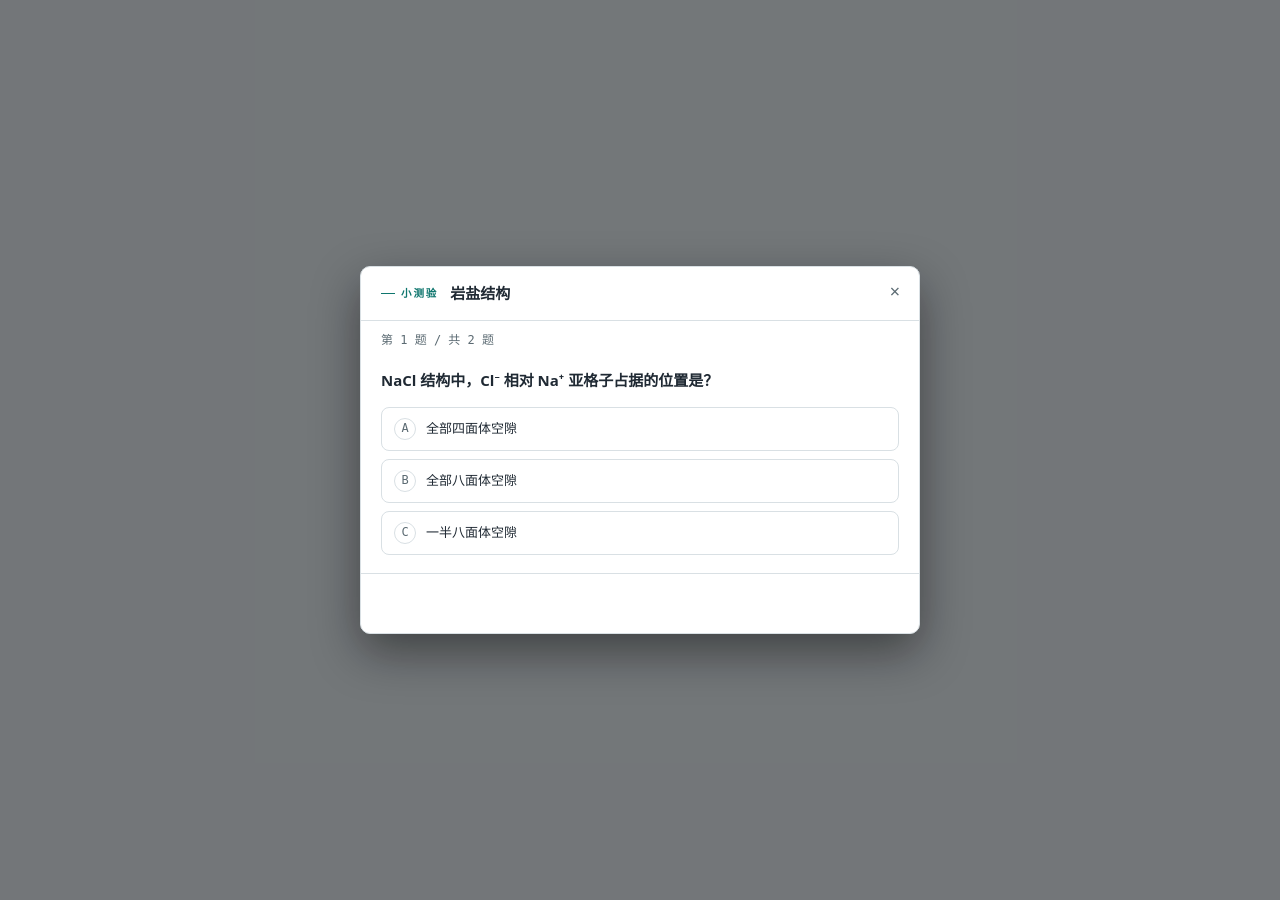
Scenario: 测验判分（testing.md 3.4） › 答错：正确项高亮且显示错因解释
This screenshot has width=1280, height=900.
Click the button "C 一半八面体空隙" at [472, 532], box [381,511,899,555]
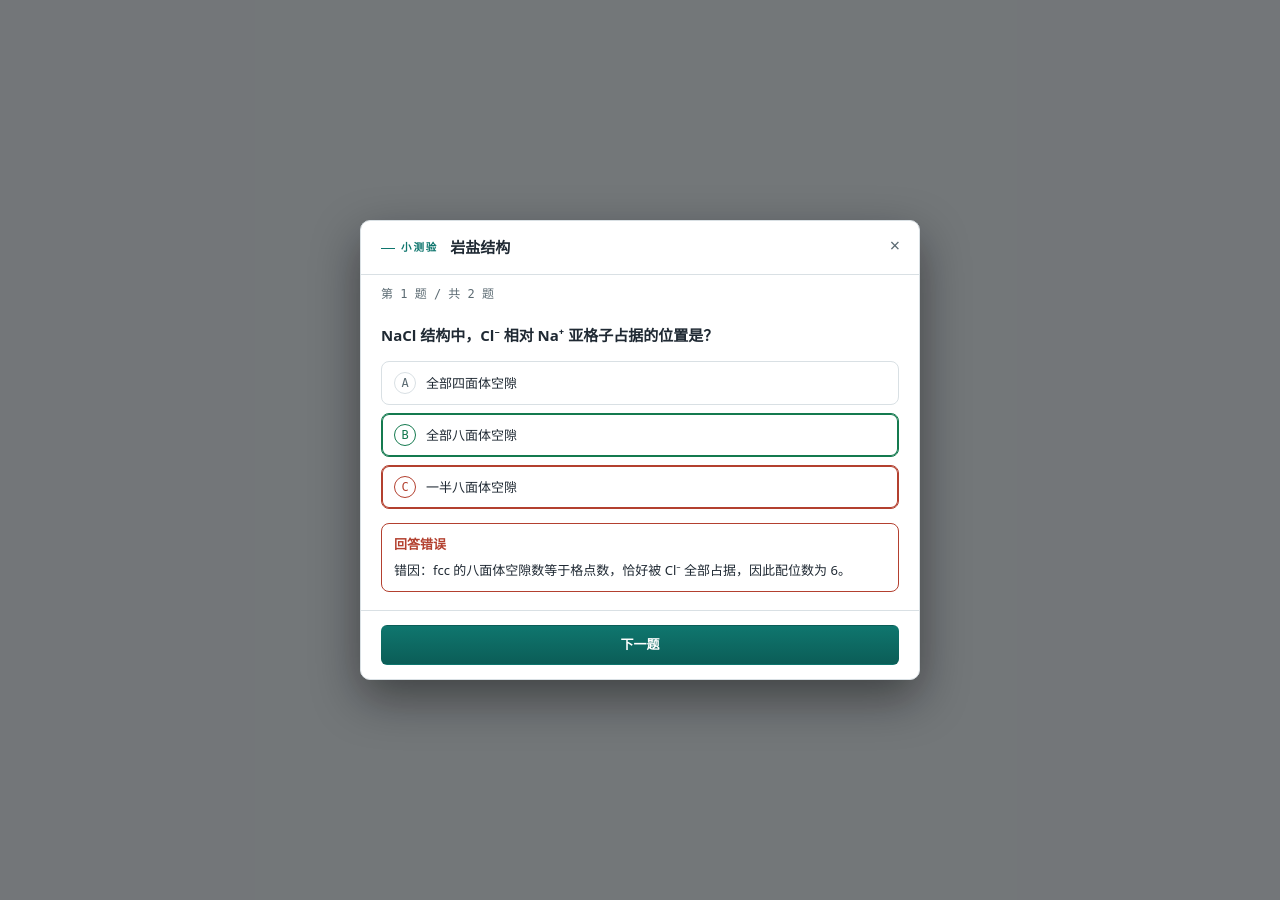
Check: the text "回答错误" is shown, box [394,536,446,554]
